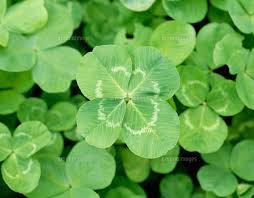4-clover: (76, 44, 181, 158)
